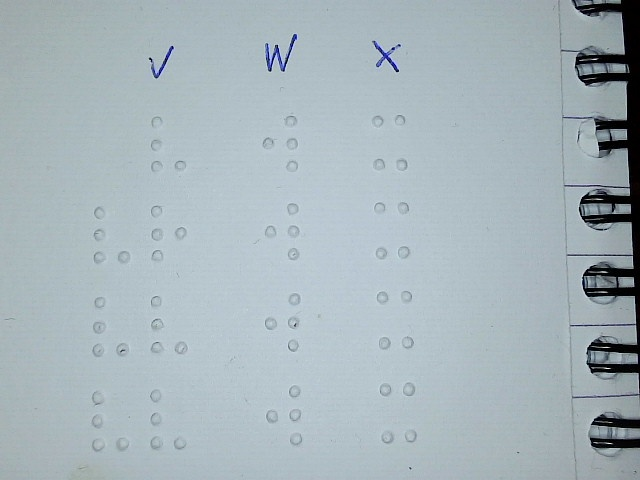V: (148, 387, 187, 450), (91, 389, 130, 452), (92, 205, 132, 265), (149, 114, 187, 174)
W: (265, 383, 303, 447), (263, 291, 301, 352), (261, 113, 299, 173), (263, 201, 301, 261)
X: (378, 379, 417, 444), (371, 112, 409, 172), (373, 199, 411, 259), (376, 289, 414, 349)
